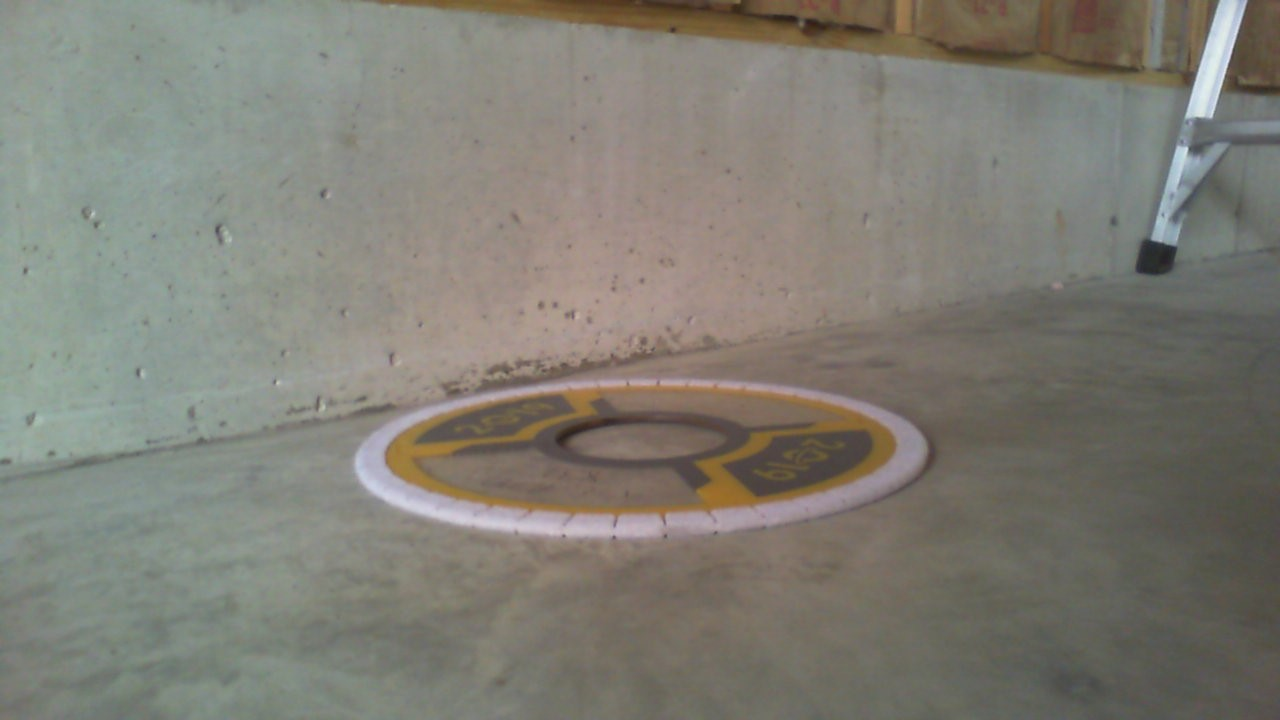Hatch: (352, 377, 932, 540)
